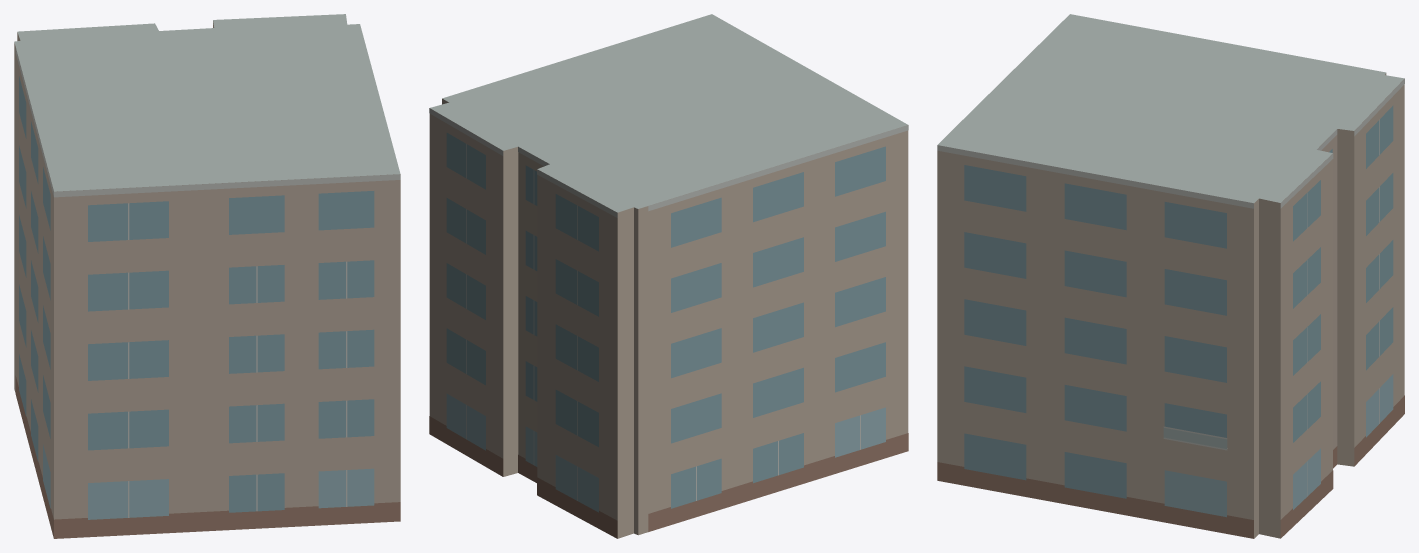
The model's file is survey-upis-32534933.glb.
3 renders of one model, left to right at view 1: azimuth 30°, elevation 25°; view 2: azimuth 150°, elevation 25°; view 3: azimuth 270°, elevation 25°, orthographic. The views are drawn at different scales.
Visible parts, largest first — view 1: survey-upis-32534933.tmp; view 2: survey-upis-32534933.tmp; view 3: survey-upis-32534933.tmp.
Boxes of the visible parts, <box> form: survey-upis-32534933.tmp: <box>14,14,400,538</box>; survey-upis-32534933.tmp: <box>429,14,908,538</box>; survey-upis-32534933.tmp: <box>937,14,1404,538</box>.
Size of the model in its own units: 17.66 by 14.6 by 18.44.
